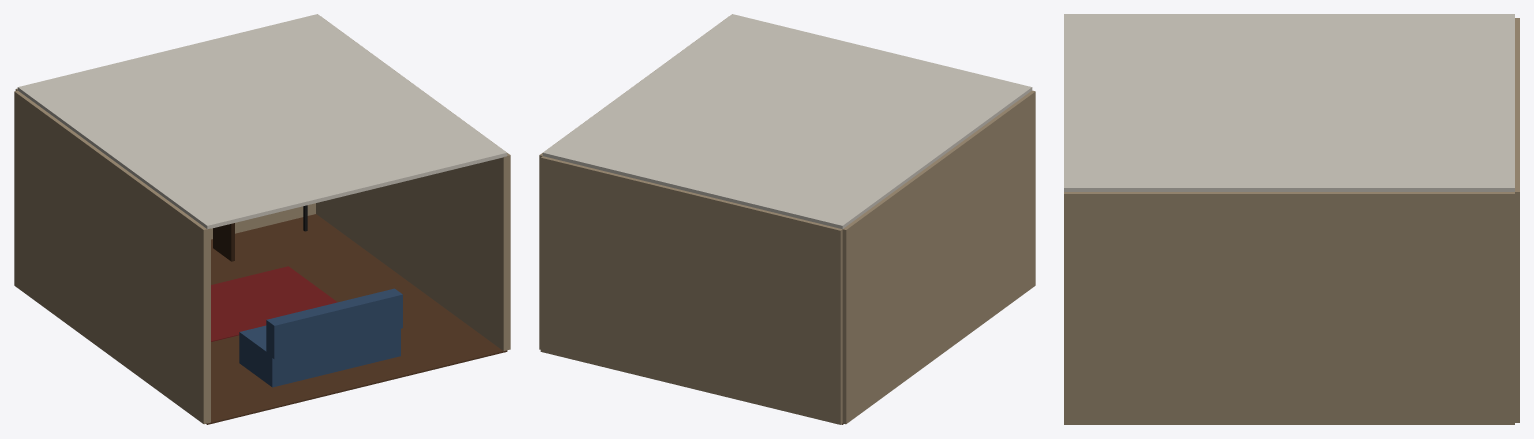
The model's file is den.glb.
The picture shows the model from 3 angles, left to right: view 1: azimuth 30°, elevation 25°; view 2: azimuth 150°, elevation 25°; view 3: azimuth 270°, elevation 25°; orthographic projection. The views are drawn at different scales.
Parts seen in each view (by area): view 1: Ceiling, WallLeft, Floor, WallRight, CouchBack, Rug, CouchSeat, WallBack, _MeshInstance3D_2; view 2: WallBack, Ceiling, WallLeft; view 3: WallRight, Ceiling, WallBack.
Part boxes in pixels (<box>): Ceiling: <box>17,14,507,229</box>; WallLeft: <box>14,90,210,424</box>; Floor: <box>206,214,507,424</box>; WallRight: <box>316,16,510,350</box>; CouchBack: <box>266,288,402,359</box>; Rug: <box>211,266,337,341</box>; CouchSeat: <box>239,325,400,387</box>; WallBack: <box>15,88,315,239</box>; _MeshInstance3D_2: <box>213,223,234,261</box>; WallBack: <box>540,156,842,424</box>; Ceiling: <box>542,14,1032,228</box>; WallLeft: <box>842,90,1035,424</box>; WallRight: <box>1064,192,1514,424</box>; Ceiling: <box>1064,14,1514,191</box>; WallBack: <box>1515,18,1519,422</box>.
Size of the model in its own units: 4.3 by 2.66 by 4.65.
